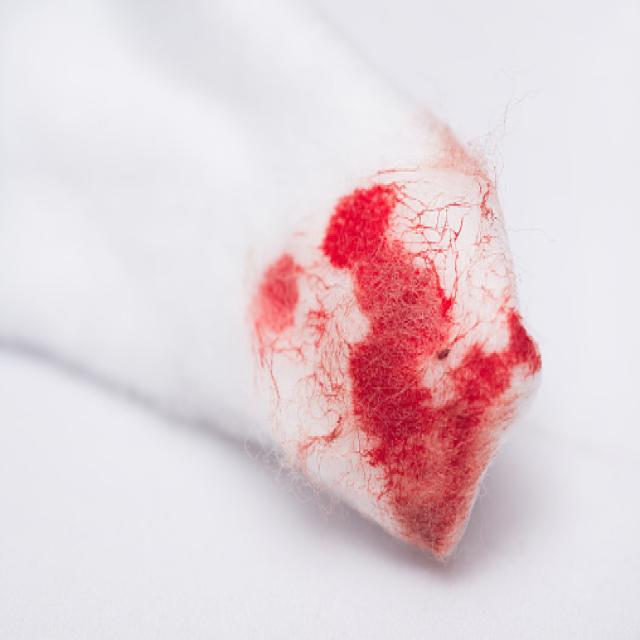B3: (191, 83, 558, 569)
